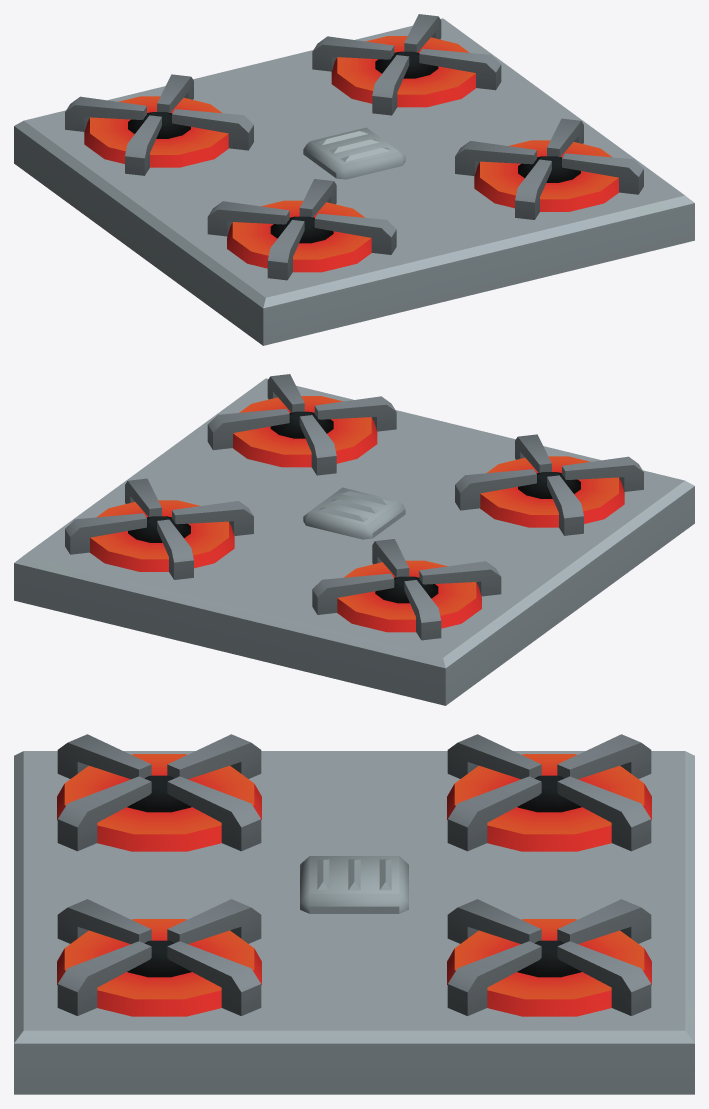
File: stove-multi-countertop.glb
The picture shows the model from 3 angles, top to bottom: view 1: azimuth 30°, elevation 25°; view 2: azimuth 150°, elevation 25°; view 3: azimuth 270°, elevation 25°; orthographic projection. The views are drawn at different scales.
Parts seen in each view (by area): view 1: stove_multi_countertop; view 2: stove_multi_countertop; view 3: stove_multi_countertop.
Boxes of the visible parts, x1,y1,x2,y2 form: stove_multi_countertop: (14,14,694,345); stove_multi_countertop: (14,374,694,705); stove_multi_countertop: (14,734,694,1094).
Bounding box in the file's own units: 1.75 × 0.2701 × 1.75.
1 material, 1 textured.
